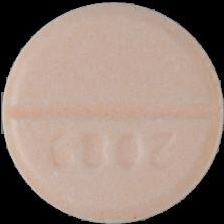0172-2089: (0, 0, 224, 224)
